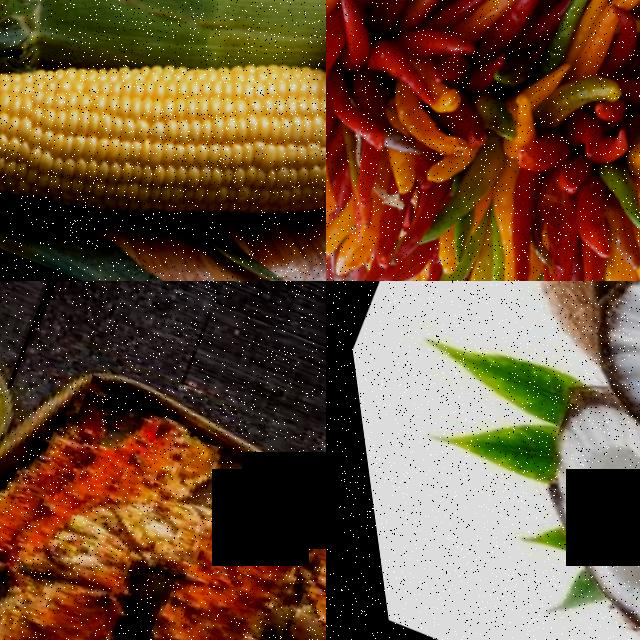chilli: (349, 34, 443, 119)
coconut: (485, 406, 640, 640), (537, 281, 640, 594)
corn: (0, 0, 234, 281), (119, 22, 326, 281)
crab: (0, 351, 326, 640), (76, 482, 326, 640)
